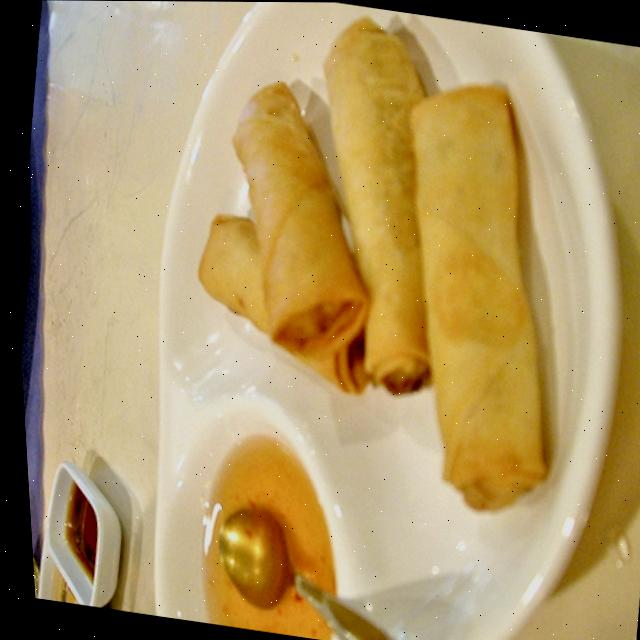炸货点心: (150, 1, 613, 522)
